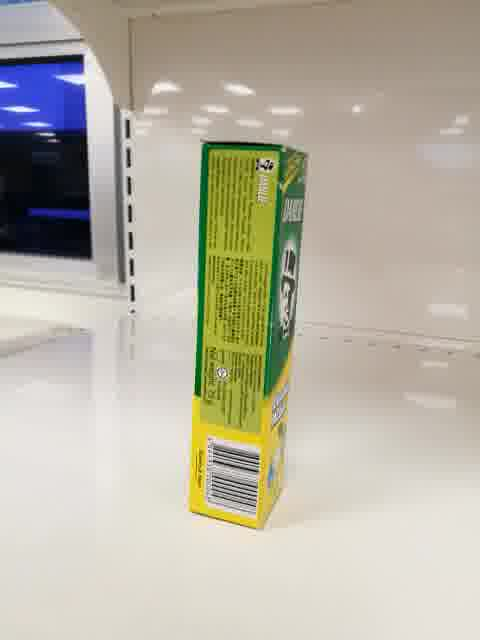toothpaste: (186, 141, 307, 533)
